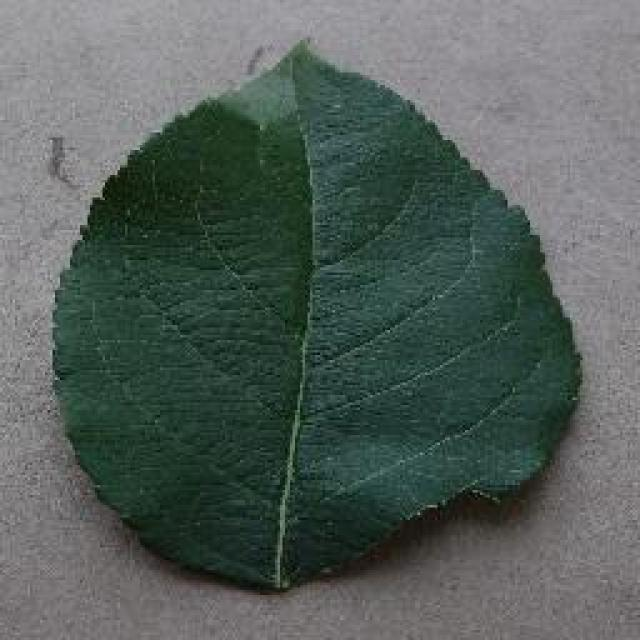apple healthy: (48, 35, 582, 593)
